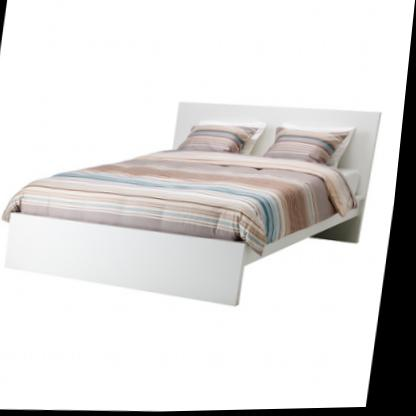Bed: (0, 91, 390, 317)
